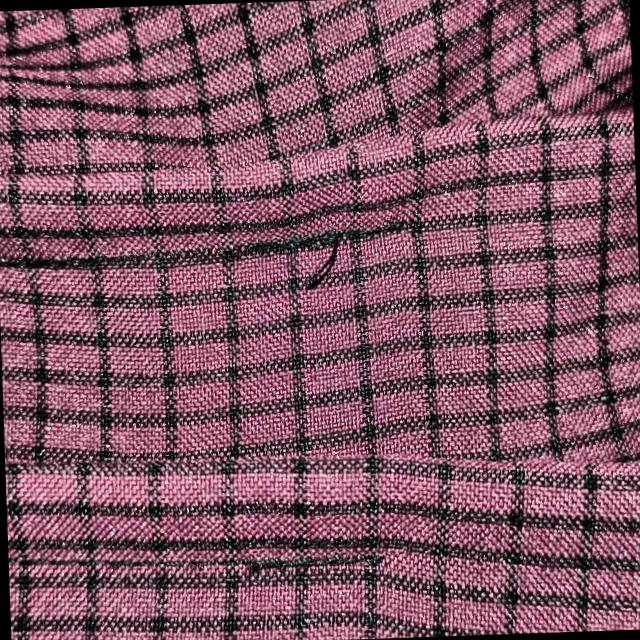gray stitch: (264, 220, 362, 336)
